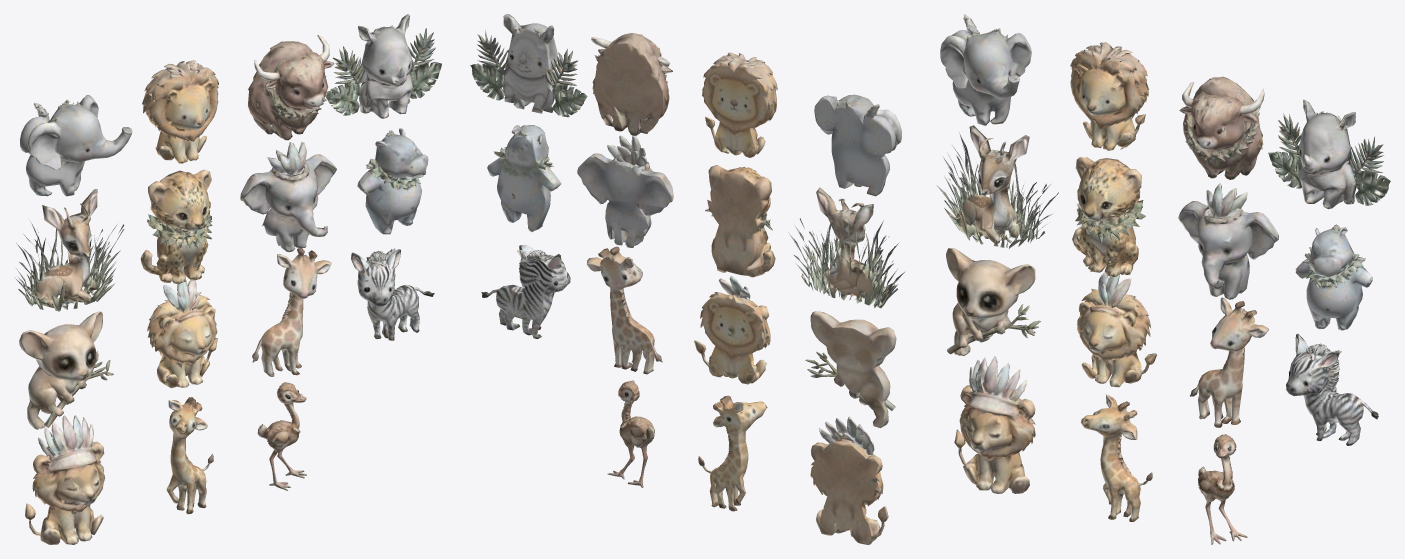
The picture shows the model from 3 angles, left to right: view 1: azimuth 30°, elevation 25°; view 2: azimuth 150°, elevation 25°; view 3: azimuth 330°, elevation 25°; orthographic projection. The views are drawn at different scales.
Visible parts, largest first — view 1: Mesh 5, Mesh 23, Mesh 4, Mesh 1, Mesh 19, Mesh 13, Mesh 18, Mesh 3, Mesh 14, Mesh 15, Mesh 26, Mesh 21 (+3 smaller); view 2: Mesh 23, Mesh 5, Mesh 1, Mesh 19, Mesh 18, Mesh 13, Mesh 4, Mesh 14, Mesh 3, Mesh 15, Mesh 26, Mesh 24 (+3 smaller); view 3: Mesh 5, Mesh 23, Mesh 1, Mesh 13, Mesh 19, Mesh 18, Mesh 4, Mesh 14, Mesh 15, Mesh 3, Mesh 26, Mesh 24 (+3 smaller).
Part boxes in pixels (x1,y1,x2,y2): Mesh 5: [25, 415, 104, 544]; Mesh 23: [325, 14, 441, 118]; Mesh 4: [20, 95, 132, 196]; Mesh 1: [14, 189, 124, 311]; Mesh 19: [248, 35, 334, 140]; Mesh 13: [140, 169, 212, 284]; Mesh 18: [240, 142, 336, 252]; Mesh 3: [19, 311, 113, 429]; Mesh 14: [142, 60, 218, 163]; Mesh 15: [147, 280, 217, 388]; Mesh 26: [357, 128, 428, 234]; Mesh 21: [252, 248, 331, 376]; Mesh 23: [470, 14, 587, 117]; Mesh 5: [810, 416, 888, 544]; Mesh 1: [788, 187, 904, 308]; Mesh 19: [591, 33, 672, 135]; Mesh 18: [577, 135, 673, 247]; Mesh 13: [705, 165, 775, 277]; Mesh 4: [814, 94, 901, 196]; Mesh 14: [702, 52, 777, 157]; Mesh 3: [805, 311, 896, 428]; Mesh 15: [694, 276, 770, 384]; Mesh 26: [487, 125, 561, 232]; Mesh 24: [481, 245, 570, 338]; Mesh 5: [954, 356, 1035, 493]; Mesh 23: [1268, 99, 1390, 209]; Mesh 1: [936, 125, 1058, 248]; Mesh 13: [1072, 157, 1145, 276]; Mesh 19: [1179, 76, 1264, 179]; Mesh 18: [1178, 183, 1278, 299]; Mesh 4: [940, 14, 1031, 125]; Mesh 14: [1070, 42, 1149, 150]; Mesh 15: [1077, 271, 1156, 387]; Mesh 3: [946, 248, 1040, 355]; Mesh 26: [1295, 224, 1372, 330]; Mesh 24: [1286, 333, 1378, 445].
Size of the model in its own units: 1.9 by 1.89 by 0.2344.
Materials: 15 (15 with a texture image).
